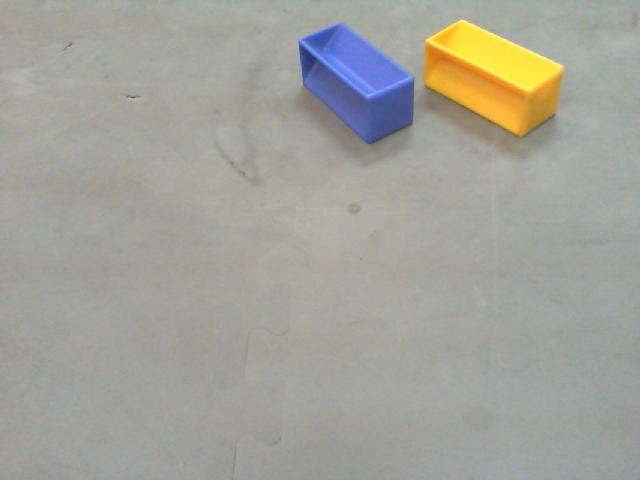BlueSample: (297, 20, 416, 157)
YellowSample: (421, 13, 566, 145)
